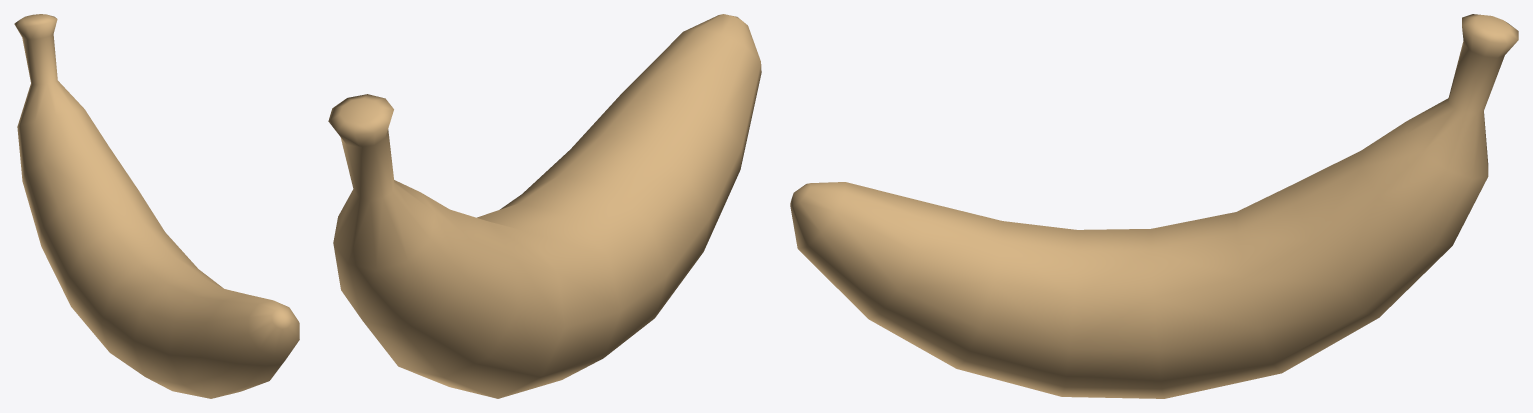
Rendered from Banana.fbx.
The picture shows the model from 3 angles, left to right: view 1: azimuth 30°, elevation 25°; view 2: azimuth 150°, elevation 25°; view 3: azimuth 270°, elevation 25°; orthographic projection. The views are drawn at different scales.
Visible parts, largest first — view 1: Banana; view 2: Banana; view 3: Banana.
Part boxes in pixels (left/top/right/bottom): Banana: left=14, top=14, right=299, bottom=398; Banana: left=328, top=14, right=761, bottom=398; Banana: left=790, top=14, right=1518, bottom=398.
Bounding box in the file's own units: 39.52 × 93.32 × 167.
